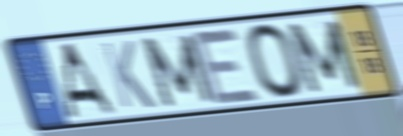A: (62, 40, 120, 120)
E: (187, 26, 265, 107)
K: (97, 38, 159, 111)
M: (137, 31, 218, 110), (283, 17, 364, 96)
O: (242, 20, 307, 102)
